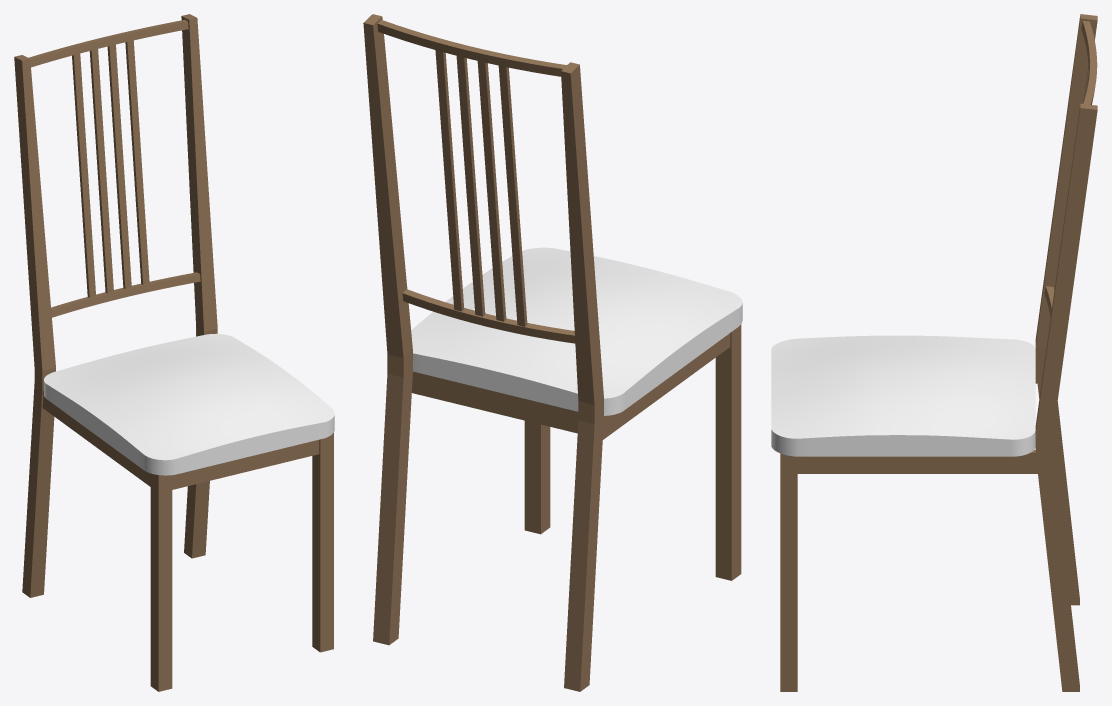
The model's file is borje_chair_obj0_object.obj.
3 renders of one model, left to right at view 1: azimuth 30°, elevation 25°; view 2: azimuth 150°, elevation 25°; view 3: azimuth 270°, elevation 25°, orthographic. The views are drawn at different scales.
Visible parts, largest first — view 1: Mesh9 Group10 Group1 Model, Mesh8 Group9 Group1 Model, Mesh14 Group15 Group1 Model, Mesh1 Group2 Group1 Model, Mesh15 Group16 Group1 Model, Mesh13 Group14 Group1 Model, Mesh6 Group7 Group1 Model, Mesh12 Group13 Group1 Model, Mesh11 Group12 Group1 Model, Mesh7 Group8 Group1 Model, Mesh3 Group4 Group1 Model, Mesh4 Group5 Group1 Model (+1 smaller); view 2: Mesh9 Group10 Group1 Model, Mesh8 Group9 Group1 Model, Mesh14 Group15 Group1 Model, Mesh1 Group2 Group1 Model, Mesh5 Group6 Group1 Model, Mesh15 Group16 Group1 Model, Mesh7 Group8 Group1 Model, Mesh11 Group12 Group1 Model, Mesh12 Group13 Group1 Model, Mesh6 Group7 Group1 Model, Mesh3 Group4 Group1 Model, Mesh4 Group5 Group1 Model (+1 smaller); view 3: Mesh9 Group10 Group1 Model, Mesh14 Group15 Group1 Model, Mesh8 Group9 Group1 Model, Mesh2 Group3 Group1 Model, Mesh15 Group16 Group1 Model, Mesh3 Group4 Group1 Model.
Boxes of the visible parts, box(x1,y1,x2,y2) form: Mesh9 Group10 Group1 Model: box(44, 333, 334, 475); Mesh8 Group9 Group1 Model: box(14, 55, 55, 597); Mesh14 Group15 Group1 Model: box(181, 14, 217, 558); Mesh1 Group2 Group1 Model: box(150, 473, 172, 691); Mesh15 Group16 Group1 Model: box(312, 432, 333, 652); Mesh13 Group14 Group1 Model: box(172, 439, 319, 489); Mesh6 Group7 Group1 Model: box(107, 44, 131, 288); Mesh12 Group13 Group1 Model: box(89, 49, 113, 293); Mesh11 Group12 Group1 Model: box(125, 40, 149, 284); Mesh7 Group8 Group1 Model: box(72, 53, 95, 297); Mesh3 Group4 Group1 Model: box(28, 19, 188, 67); Mesh4 Group5 Group1 Model: box(51, 272, 200, 317); Mesh9 Group10 Group1 Model: box(411, 247, 742, 415); Mesh8 Group9 Group1 Model: box(561, 62, 603, 691); Mesh14 Group15 Group1 Model: box(363, 14, 412, 645); Mesh1 Group2 Group1 Model: box(715, 324, 741, 580); Mesh5 Group6 Group1 Model: box(412, 371, 578, 433); Mesh15 Group16 Group1 Model: box(524, 420, 550, 534); Mesh7 Group8 Group1 Model: box(498, 65, 527, 326); Mesh11 Group12 Group1 Model: box(435, 50, 464, 311); Mesh12 Group13 Group1 Model: box(477, 61, 506, 321); Mesh6 Group7 Group1 Model: box(456, 56, 485, 316); Mesh3 Group4 Group1 Model: box(377, 20, 566, 76); Mesh4 Group5 Group1 Model: box(402, 289, 575, 343); Mesh9 Group10 Group1 Model: box(771, 335, 1035, 456); Mesh14 Group15 Group1 Model: box(1035, 103, 1097, 691); Mesh8 Group9 Group1 Model: box(1035, 14, 1097, 605); Mesh2 Group3 Group1 Model: box(797, 450, 1037, 473); Mesh15 Group16 Group1 Model: box(780, 453, 797, 691); Mesh3 Group4 Group1 Model: box(1081, 21, 1097, 104).
Bounding box in the file's own units: 37.03 × 99.9 × 50.6.
